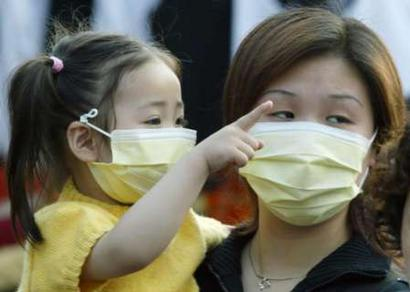OK: (246, 92, 368, 213), (92, 91, 201, 200)
